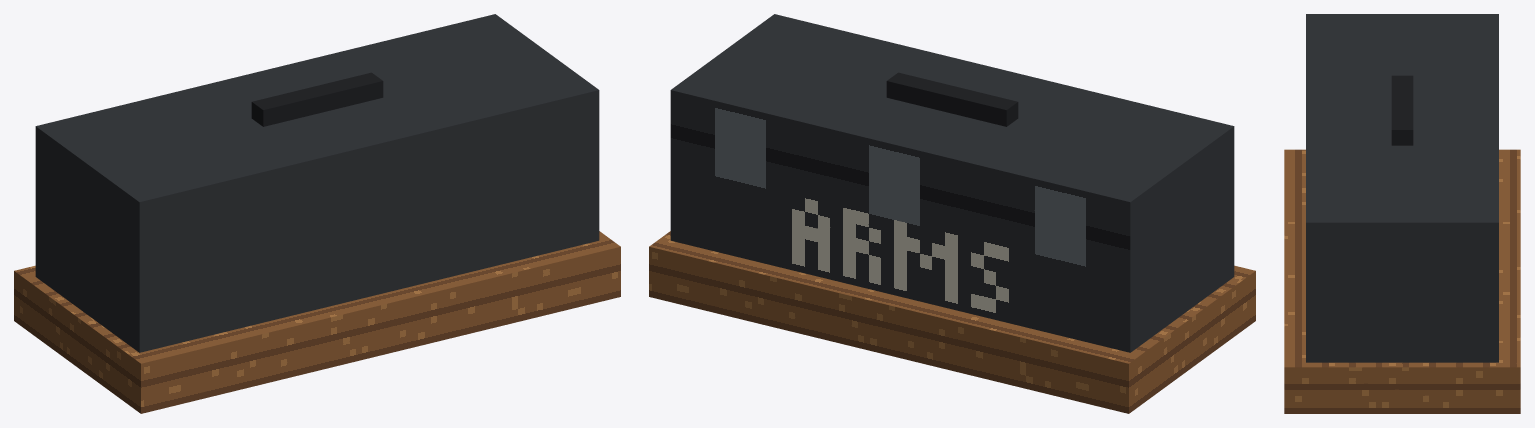
File: weapon_case.glb
3 renders of one model, left to right at view 1: azimuth 30°, elevation 25°; view 2: azimuth 150°, elevation 25°; view 3: azimuth 270°, elevation 25°, orthographic. The views are drawn at different scales.
Visible parts, largest first — view 1: weapon_case; view 2: weapon_case; view 3: weapon_case.
Boxes of the visible parts, x1=… form: weapon_case: x1=14, y1=14, x2=620, y2=413; weapon_case: x1=649, y1=14, x2=1255, y2=413; weapon_case: x1=1284, y1=14, x2=1520, y2=413.
Size of the model in its own units: 1.2 by 0.52 by 0.55.
4 materials, 4 textured.
